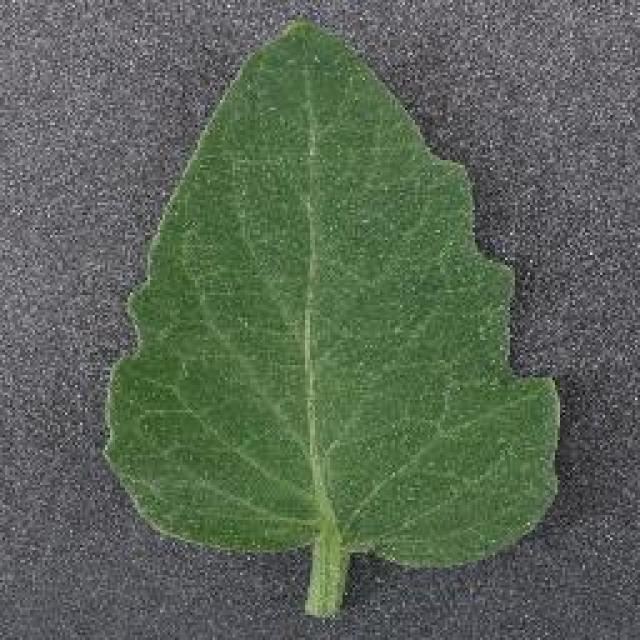healthy: (99, 18, 560, 621)
